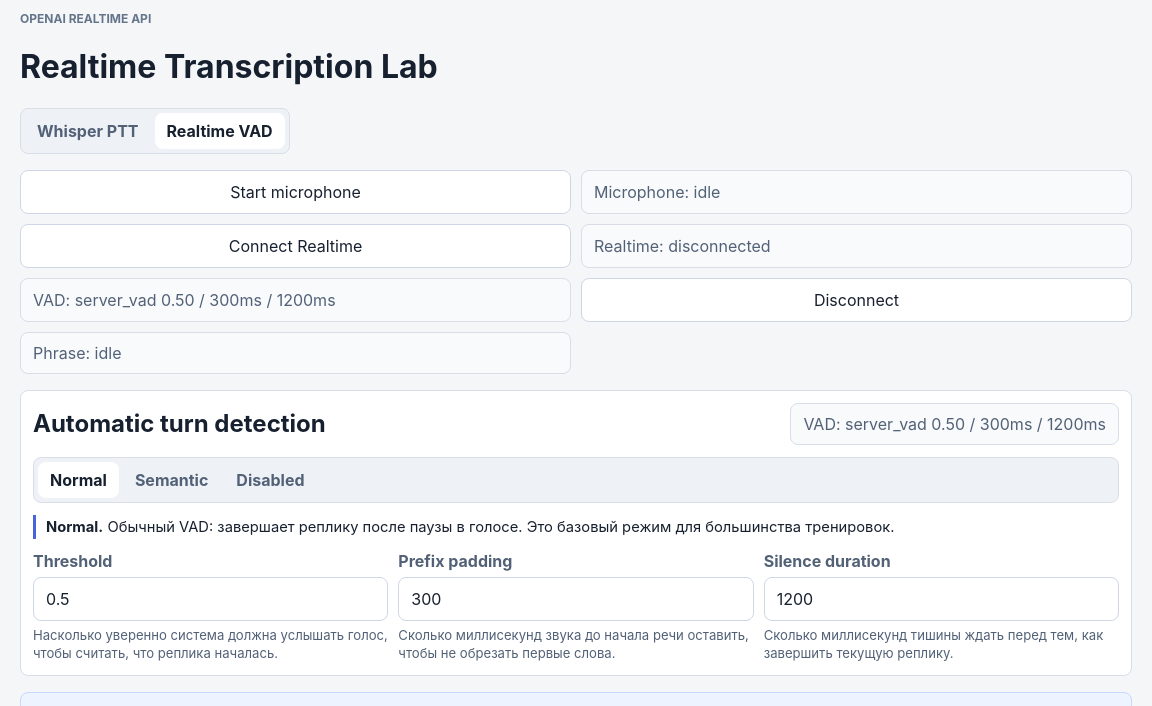
Test: Realtime Transcription Lab › renders transcript deltas and raw event types from the data channel
The width and height of the screenshot is (1152, 706).
Click the button "Start microphone" at (296, 192), box 20,170 -> 571,214
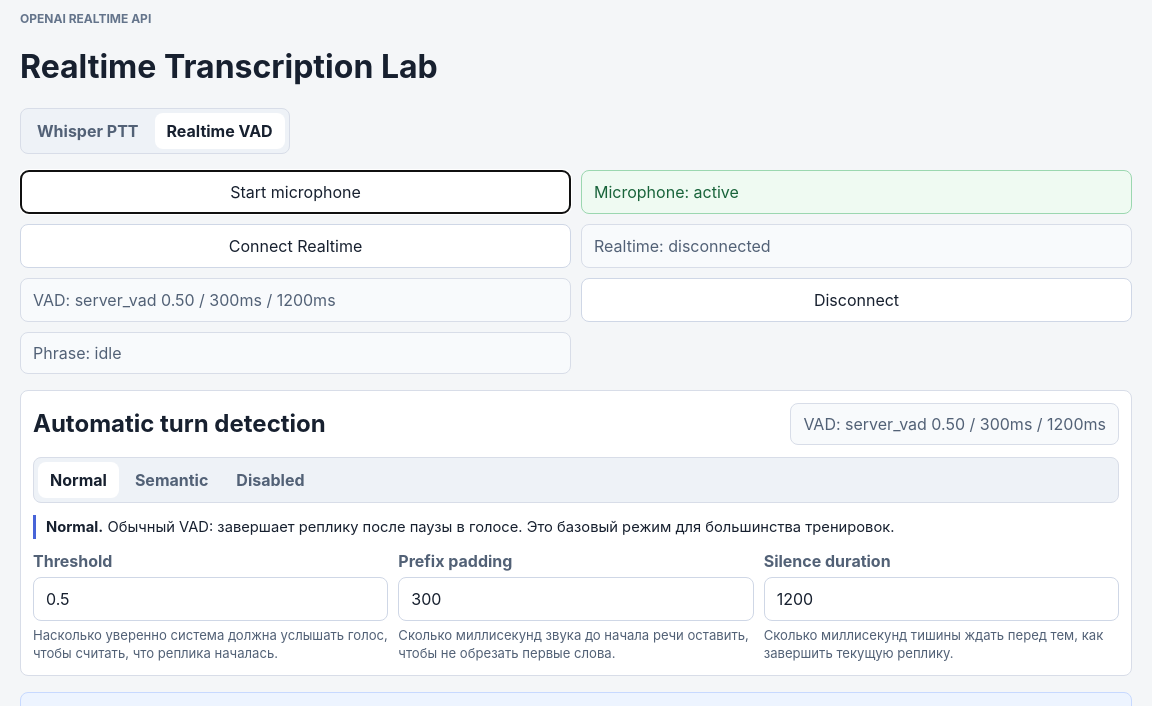
Click the button "Connect Realtime" at (296, 246), box 20,224 -> 571,268
(page scrolled)
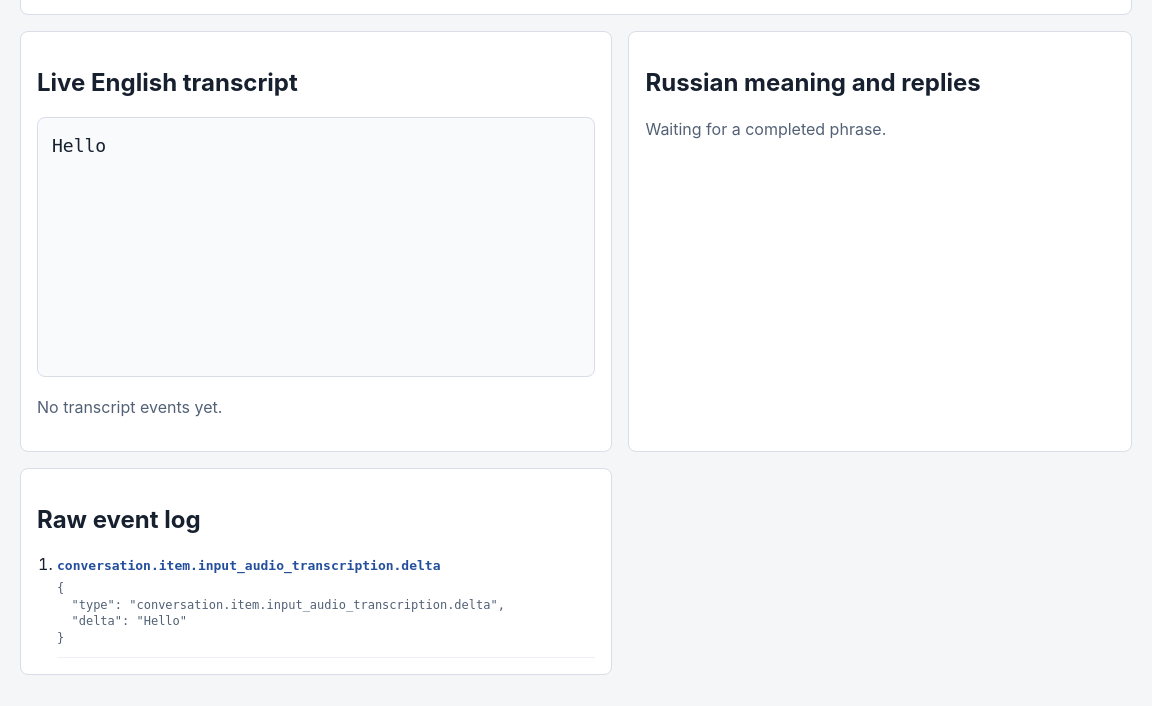
Expected: the text "Hello" is shown, 37,117 -> 595,377
Expected: the text "conversation.item.input_audio_transcription.delta" is shown, 57,558 -> 440,573
